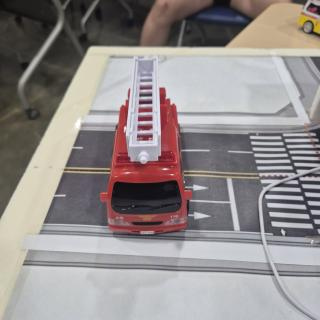Fire_truck: (100, 56, 192, 235)
